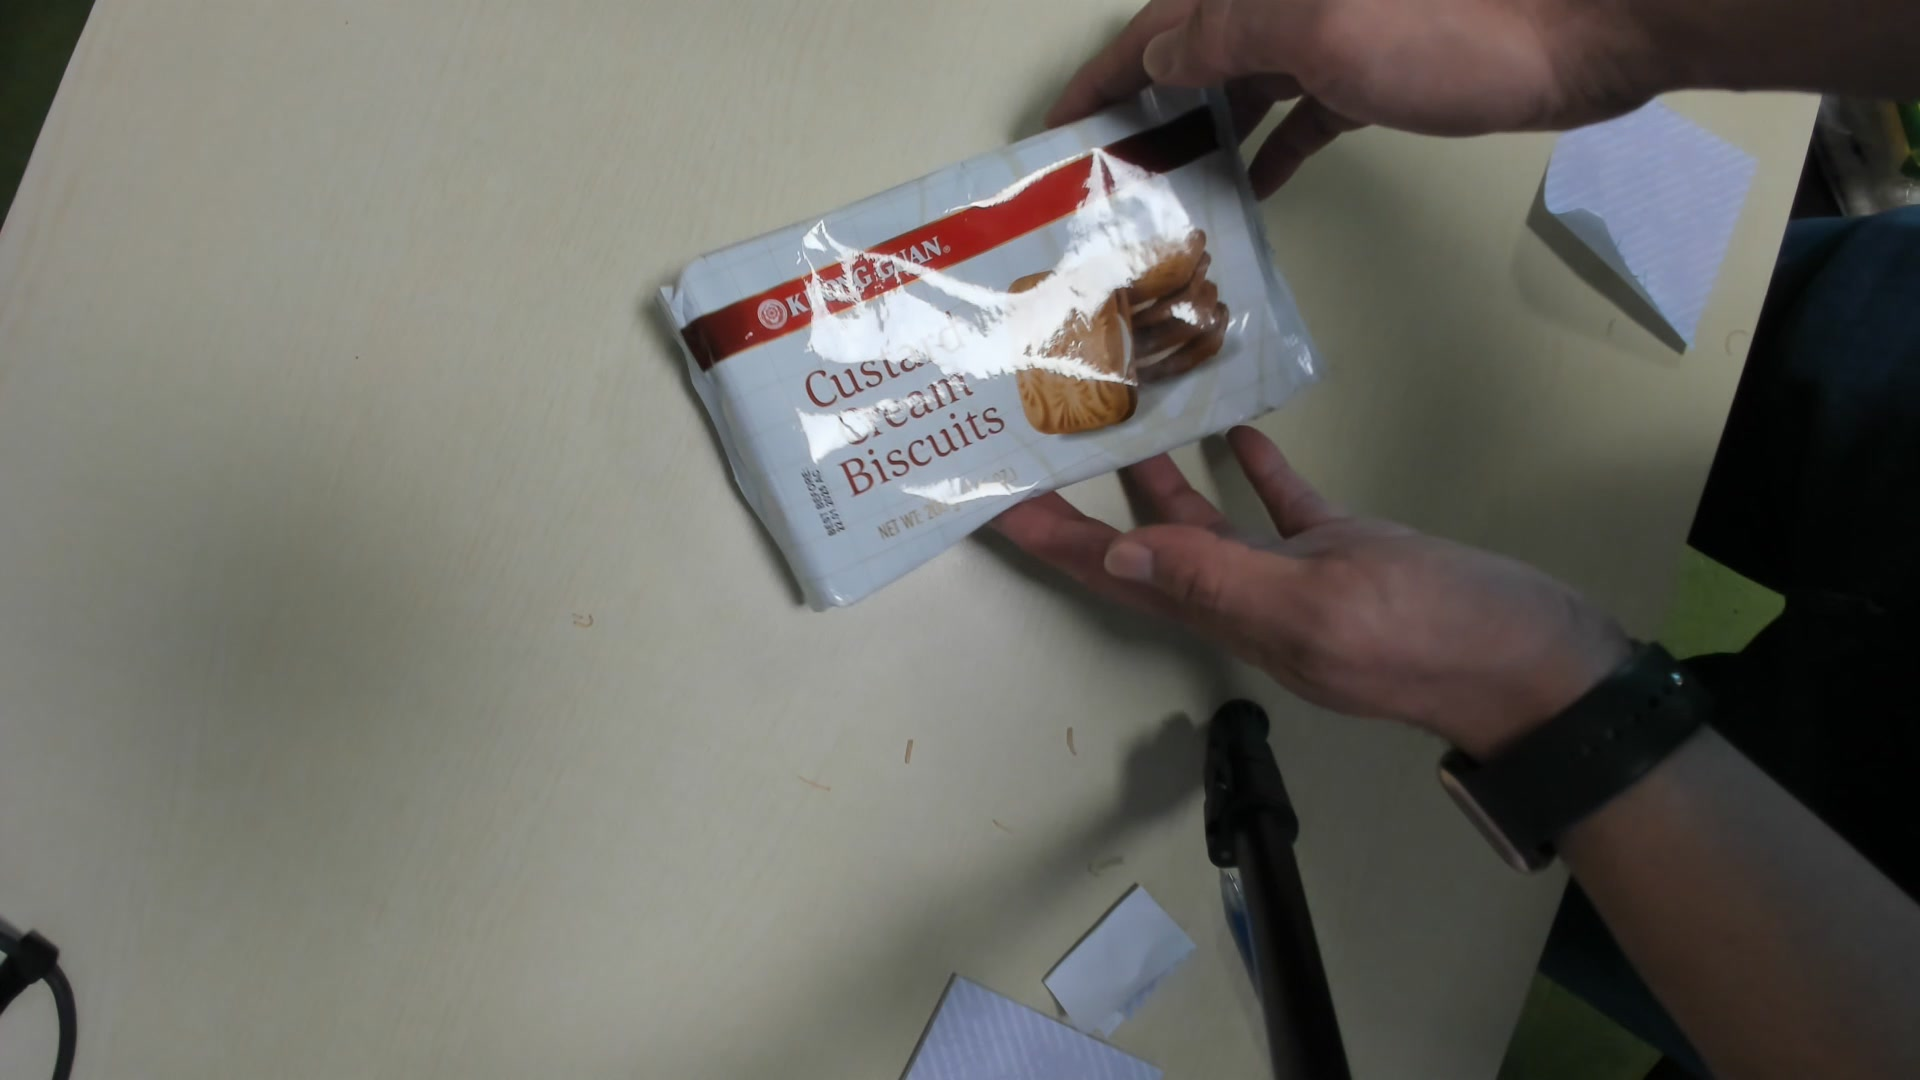BiscuitsCrackersCookies_200-299g_Halal_NonHealthy: (655, 87, 1323, 622)
